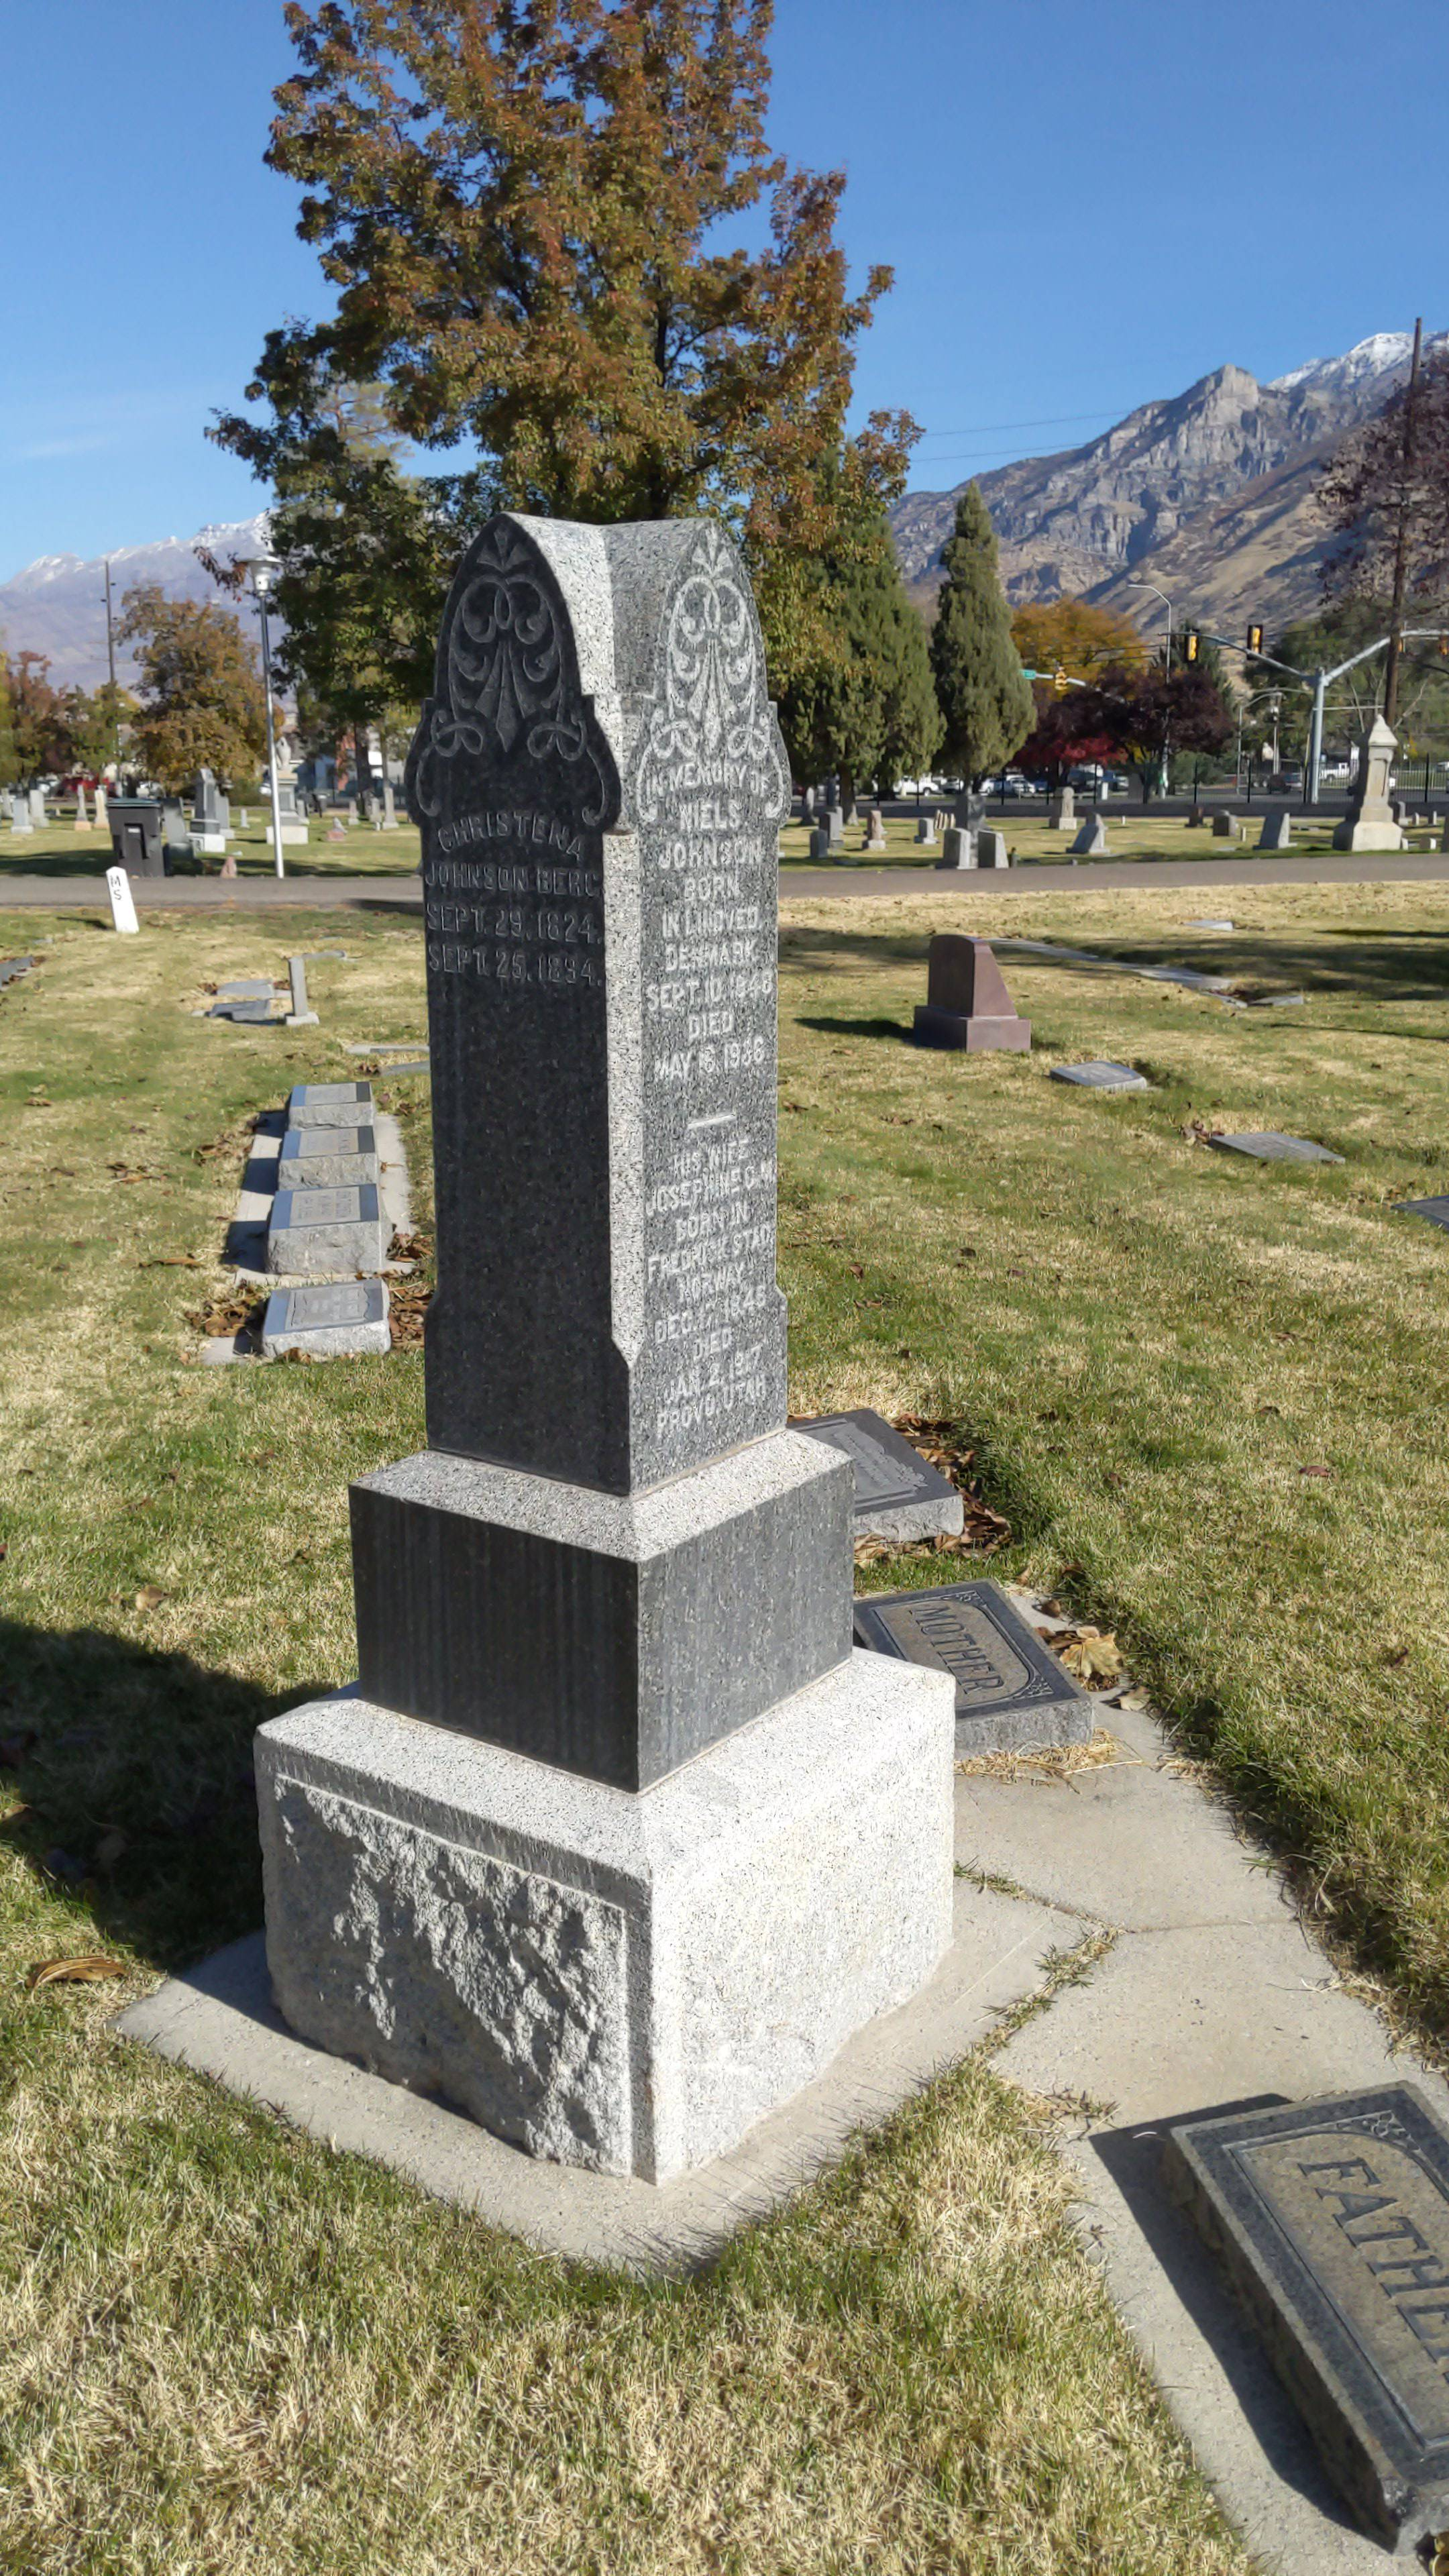obelisk: (347, 515, 851, 1787)
